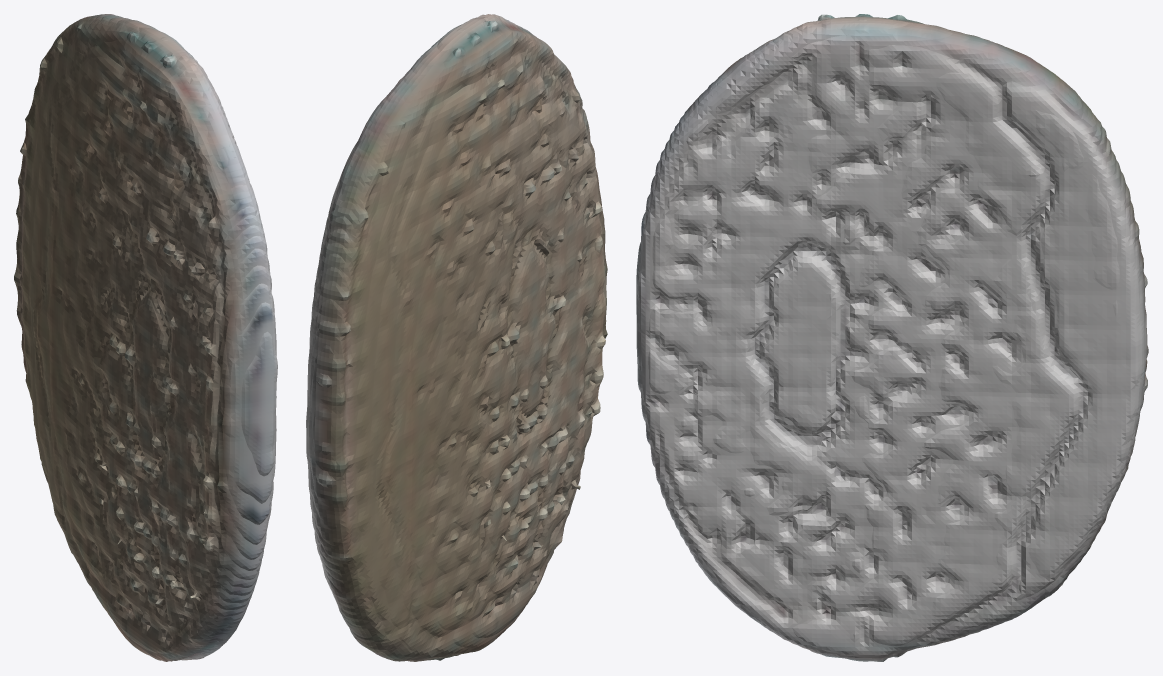
3 views of the same model, side by side, from view 1: azimuth 30°, elevation 25°; view 2: azimuth 150°, elevation 25°; view 3: azimuth 270°, elevation 25° (orthographic). The views are drawn at different scales.
Parts seen in each view (by area): view 1: world; view 2: world; view 3: world.
Boxes of the visible parts, bbox=[...] form: world: bbox=[14, 14, 277, 661]; world: bbox=[306, 14, 607, 661]; world: bbox=[636, 14, 1148, 661].
Bounding box in the file's own units: 0.1349 × 1.02 × 0.735.
